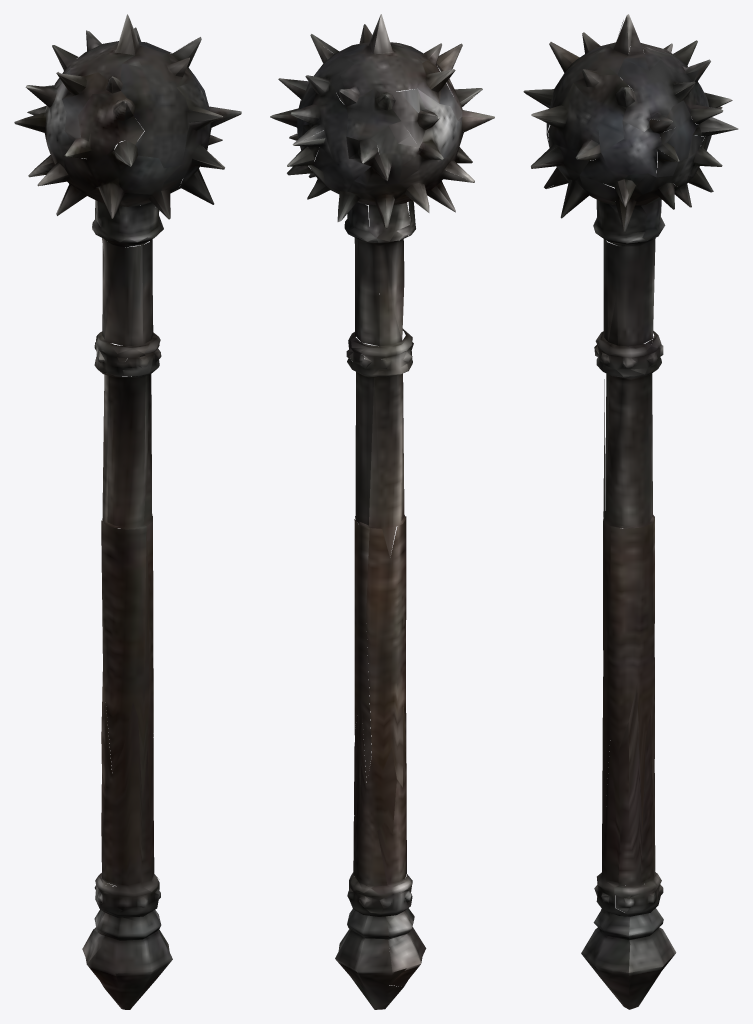
The model's file is great_morning_star.glb.
3 renders of one model, left to right at view 1: azimuth 30°, elevation 25°; view 2: azimuth 150°, elevation 25°; view 3: azimuth 270°, elevation 25°, orthographic.
Visible parts, largest first — view 1: great_morning_star; view 2: great_morning_star; view 3: great_morning_star.
Boxes of the visible parts, x1=… form: great_morning_star: x1=14, y1=14, x2=241, y2=1009; great_morning_star: x1=270, y1=14, x2=494, y2=1009; great_morning_star: x1=523, y1=14, x2=738, y2=1009.
Size of the model in its own units: 0.2625 by 1.35 by 0.2649.
Materials: 1 (1 with a texture image).
